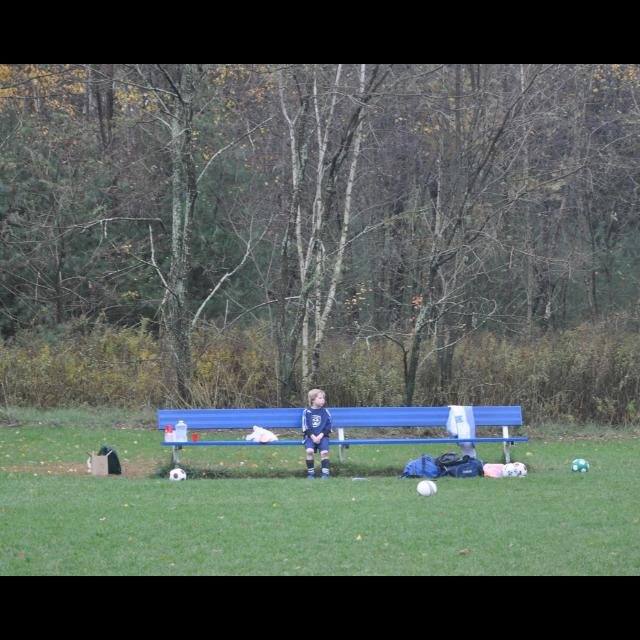Football: (417, 480, 437, 496)
